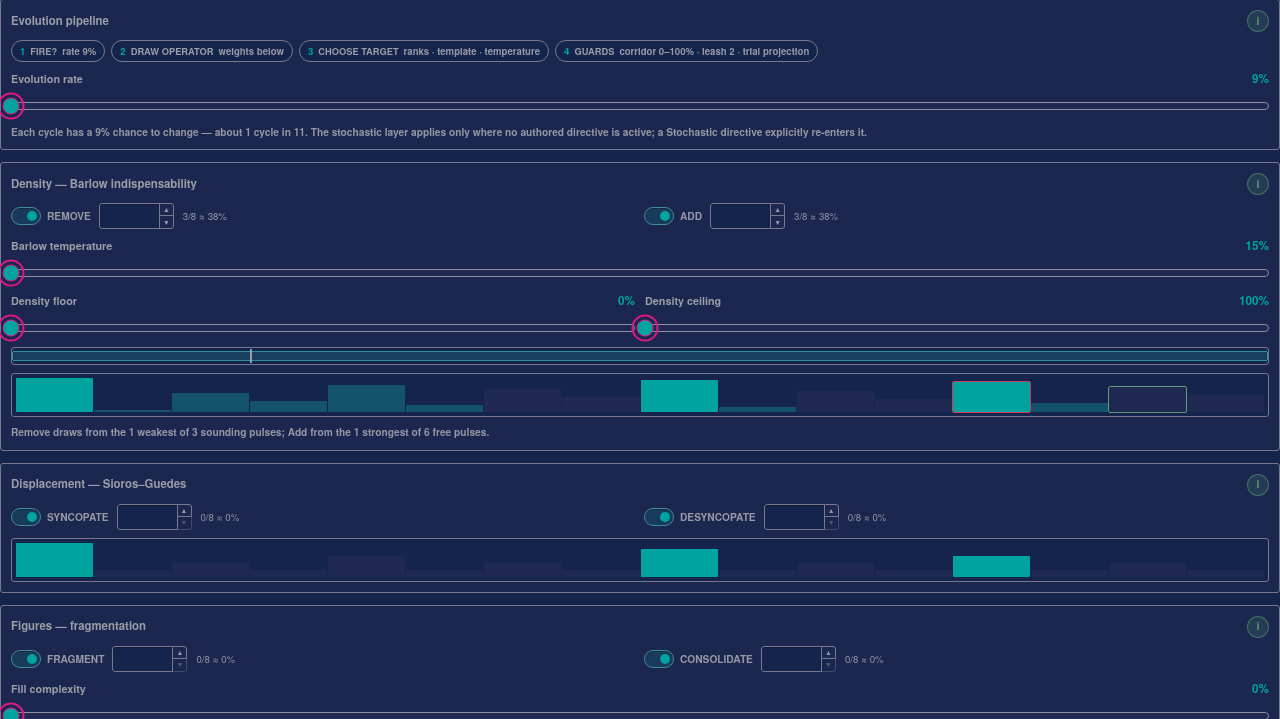
EvolutionPanels › counts the seed's figure candidates in the figures card
The width and height of the screenshot is (1280, 719).
What coordinates should you click on to do the following:
click the button named "Show figures reference"
I would click on:
 (1258, 627)
Its box is top-left (1247, 616), bottom-right (1269, 638).
(page scrolled)
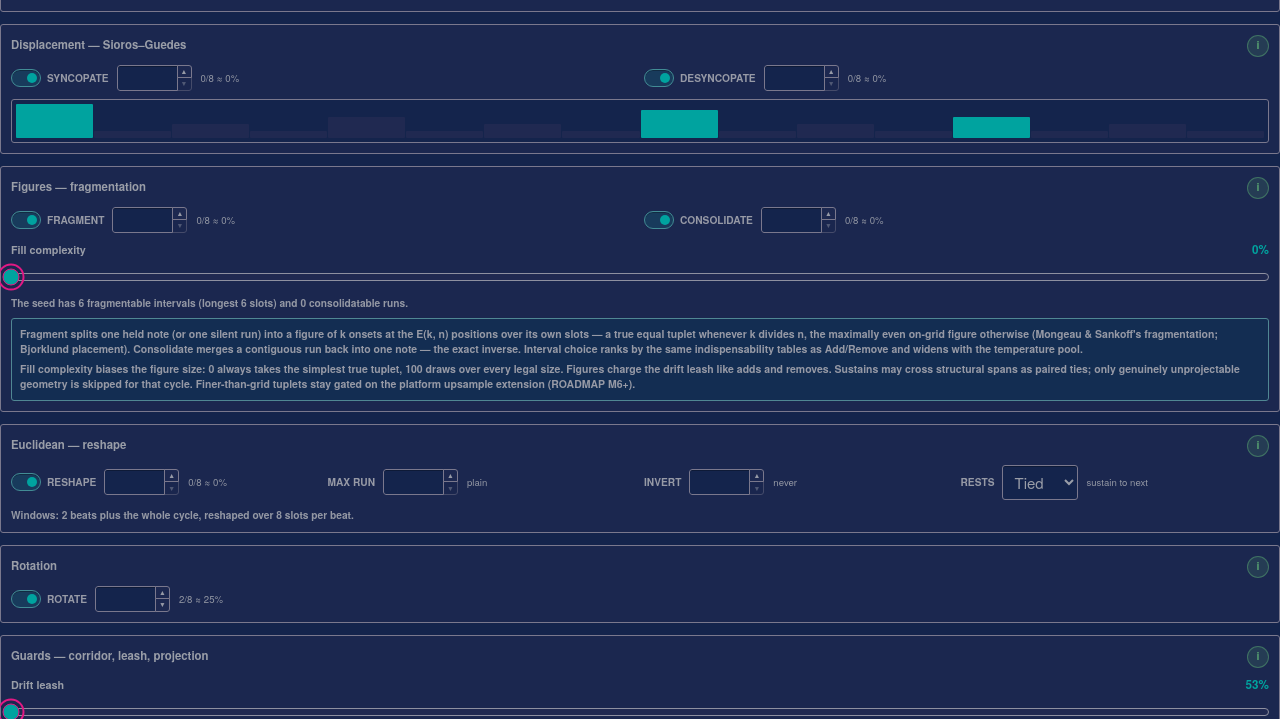
Check: the element named "figures reference" shows "Mongeau", box top-left (20, 326), bottom-right (1218, 356)
Check: the element named "figures reference" shows "true equal tuplet", box top-left (20, 326), bottom-right (1218, 356)
